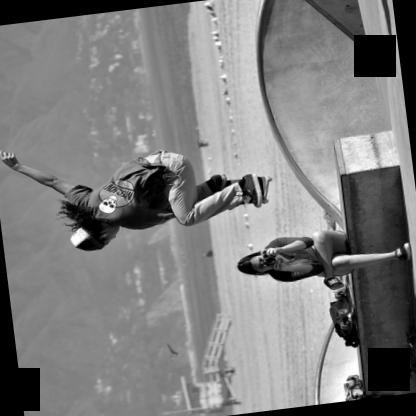backpack: (329, 297, 359, 347)
